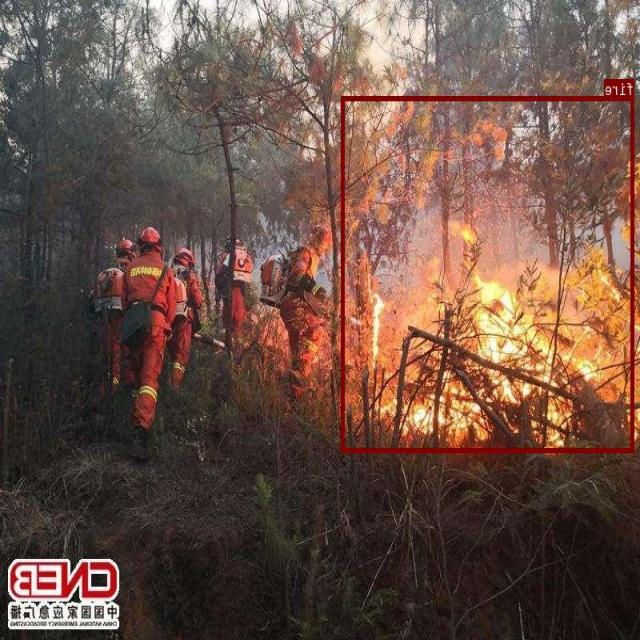fire: (342, 96, 635, 452)
